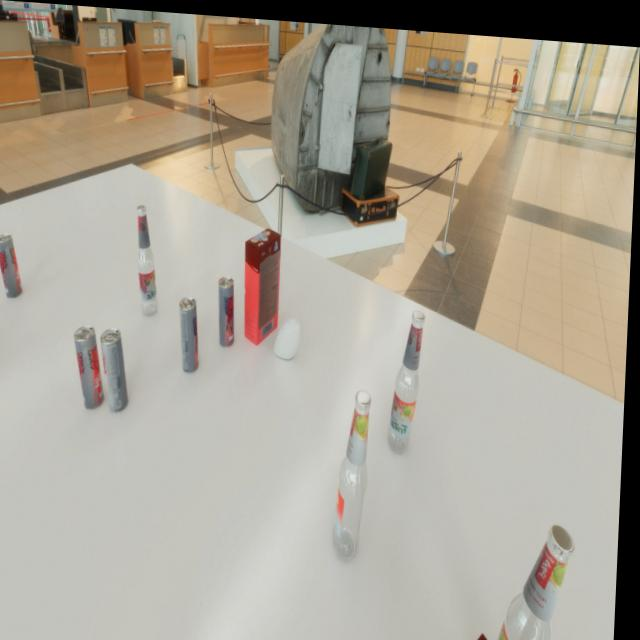Bottle: (490, 511, 580, 640), (335, 383, 375, 557), (390, 303, 428, 449), (135, 203, 164, 314)
HelloPanda: (244, 223, 284, 343)
Rita_zero_sugar: (75, 323, 110, 409), (101, 325, 134, 412), (179, 293, 204, 371), (0, 233, 27, 299), (218, 272, 239, 344)
Salt: (276, 311, 306, 356)
